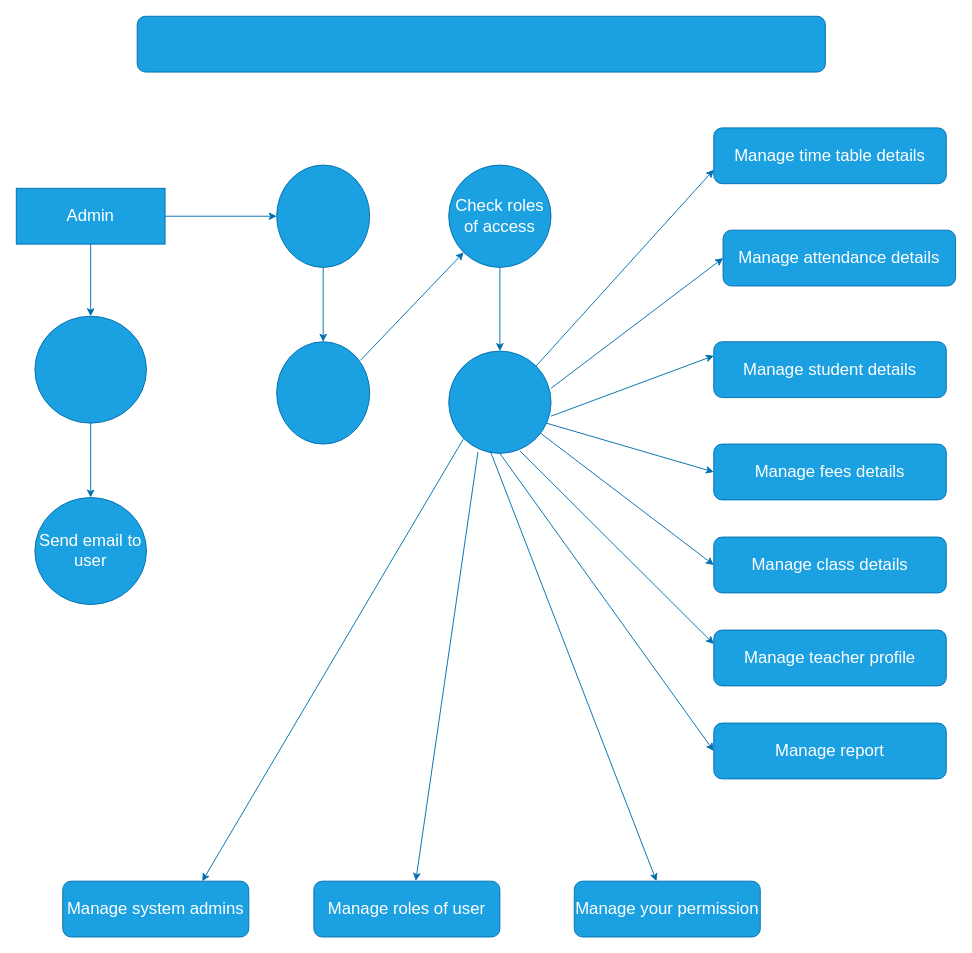
Image size: 972x953. Some labels were removed from this diagram. Here are the shapes that lost their labels. From the top down, the centre of each, then its label:
the point at 480,43: Student Information System
the point at 323,215: Login to system
the point at 90,369: Forget password
the point at 323,392: Check cradentials
the point at 499,401: Manage Modules
